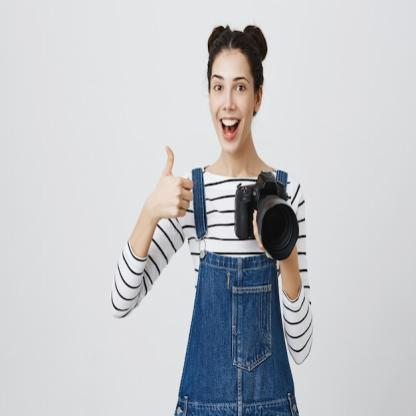thumb_up: (147, 143, 196, 223)
